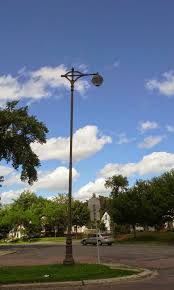light_pole: (64, 66, 77, 264)
